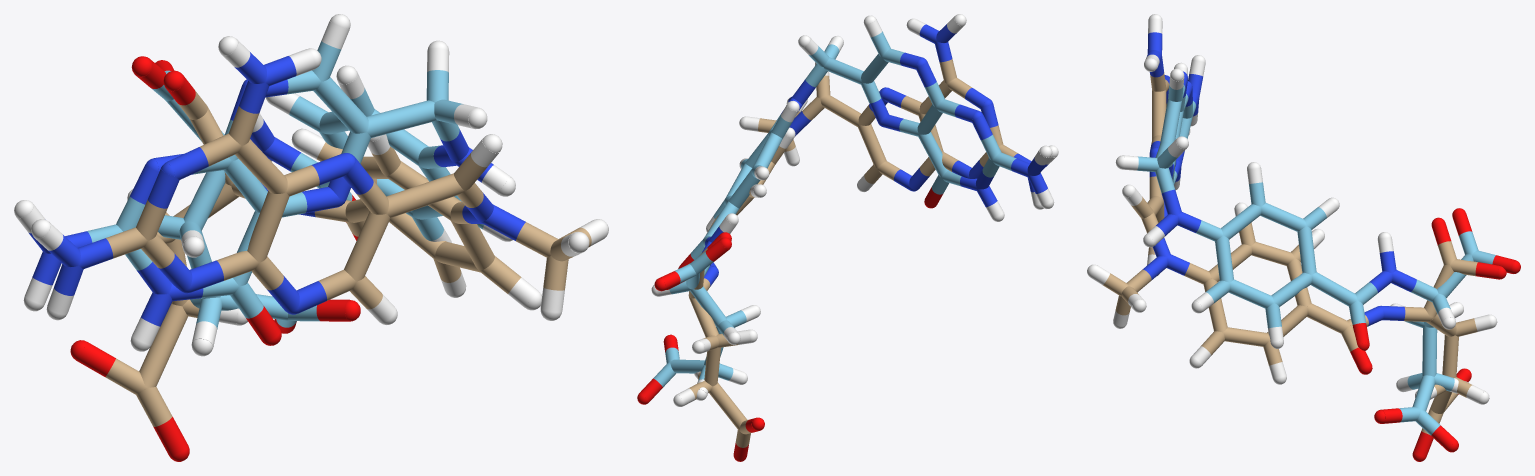
File: folmtxrotation.dae
3 renders of one model, left to right at view 1: azimuth 30°, elevation 25°; view 2: azimuth 150°, elevation 25°; view 3: azimuth 270°, elevation 25°, orthographic. The views are drawn at different scales.
Parts seen in each view (by area): view 1: subnode_100, subnode_69, subnode_207, subnode_65, subnode_68, subnode_206, subnode_62, subnode_229, subnode_203, subnode_84, subnode_85, subnode_101 (+49 smaller); view 2: subnode_100, subnode_68, subnode_69, subnode_200, subnode_229, subnode_207, subnode_99, subnode_222, subnode_94, subnode_217, subnode_232; view 3: subnode_231, subnode_218, subnode_217, subnode_222, subnode_219, subnode_220, subnode_83, subnode_221, subnode_82, subnode_206, subnode_216, subnode_86 (+7 smaller).
Part boxes in pixels (box(x1,y1,x2,y2)): subnode_100: box(139, 303, 187, 387); subnode_69: box(386, 173, 464, 217); subnode_207: box(367, 100, 436, 137); subnode_65: box(247, 191, 289, 262); subnode_68: box(344, 211, 390, 281); subnode_206: box(313, 77, 368, 133); subnode_62: box(235, 139, 287, 193); subnode_229: box(183, 170, 225, 230); subnode_203: box(223, 159, 267, 212); subnode_84: box(451, 221, 494, 270); subnode_85: box(386, 161, 461, 220); subnode_101: box(136, 387, 172, 426); subnode_100: box(709, 382, 747, 431); subnode_68: box(858, 124, 886, 167); subnode_69: box(820, 95, 861, 126); subnode_200: box(918, 132, 947, 177); subnode_229: box(690, 286, 726, 327); subnode_207: box(823, 57, 863, 84); subnode_99: box(704, 347, 720, 386); subnode_222: box(753, 132, 782, 168); subnode_94: box(689, 298, 718, 337); subnode_217: box(728, 169, 760, 208); subnode_232: box(670, 359, 704, 373); subnode_231: box(1422, 326, 1437, 376); subnode_218: box(1311, 272, 1357, 306); subnode_217: box(1297, 226, 1316, 274); subnode_222: box(1260, 203, 1306, 231); subnode_219: box(1228, 279, 1273, 308); subnode_220: box(1215, 235, 1233, 282); subnode_83: box(1223, 327, 1270, 346); subnode_221: box(1221, 204, 1261, 239); subnode_82: box(1307, 303, 1349, 333); subnode_206: box(1160, 98, 1182, 143); subnode_216: box(1271, 272, 1311, 306); subnode_86: box(1251, 242, 1294, 265).
Bounding box in the file's own units: 11.51 × 12.25 × 12.09.
